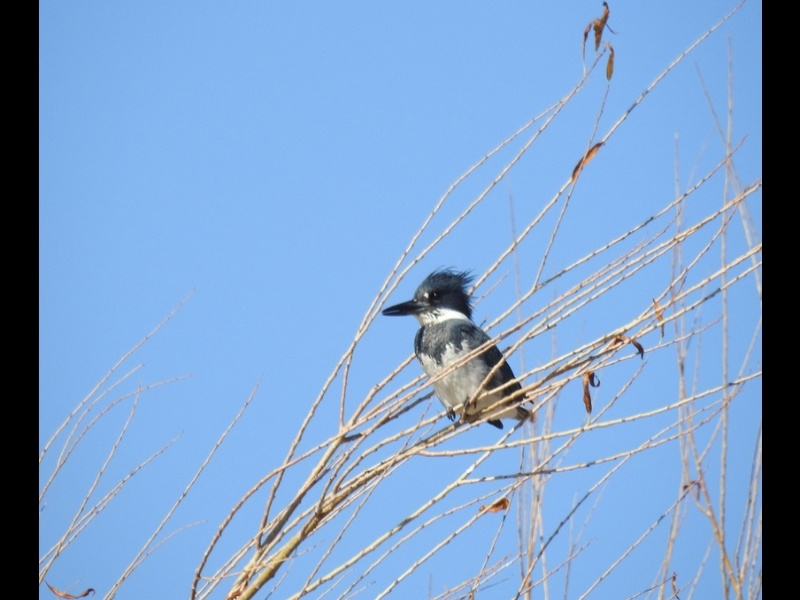kingfisher: (378, 268, 531, 427)
